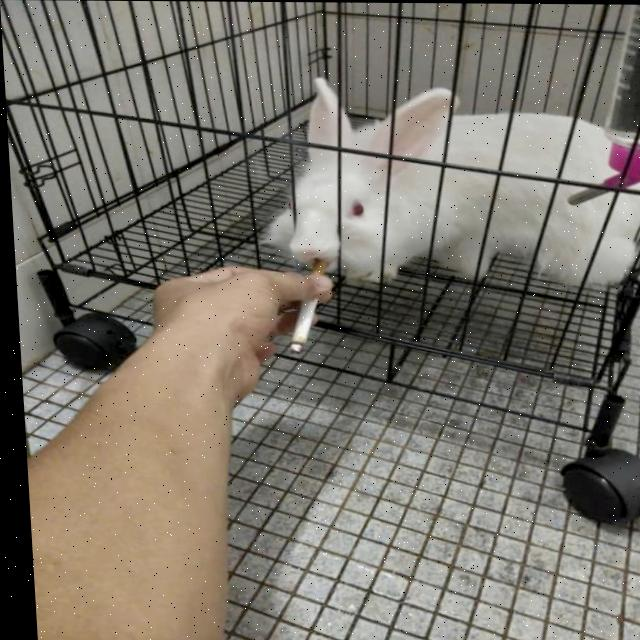cigarette: (282, 259, 332, 354)
